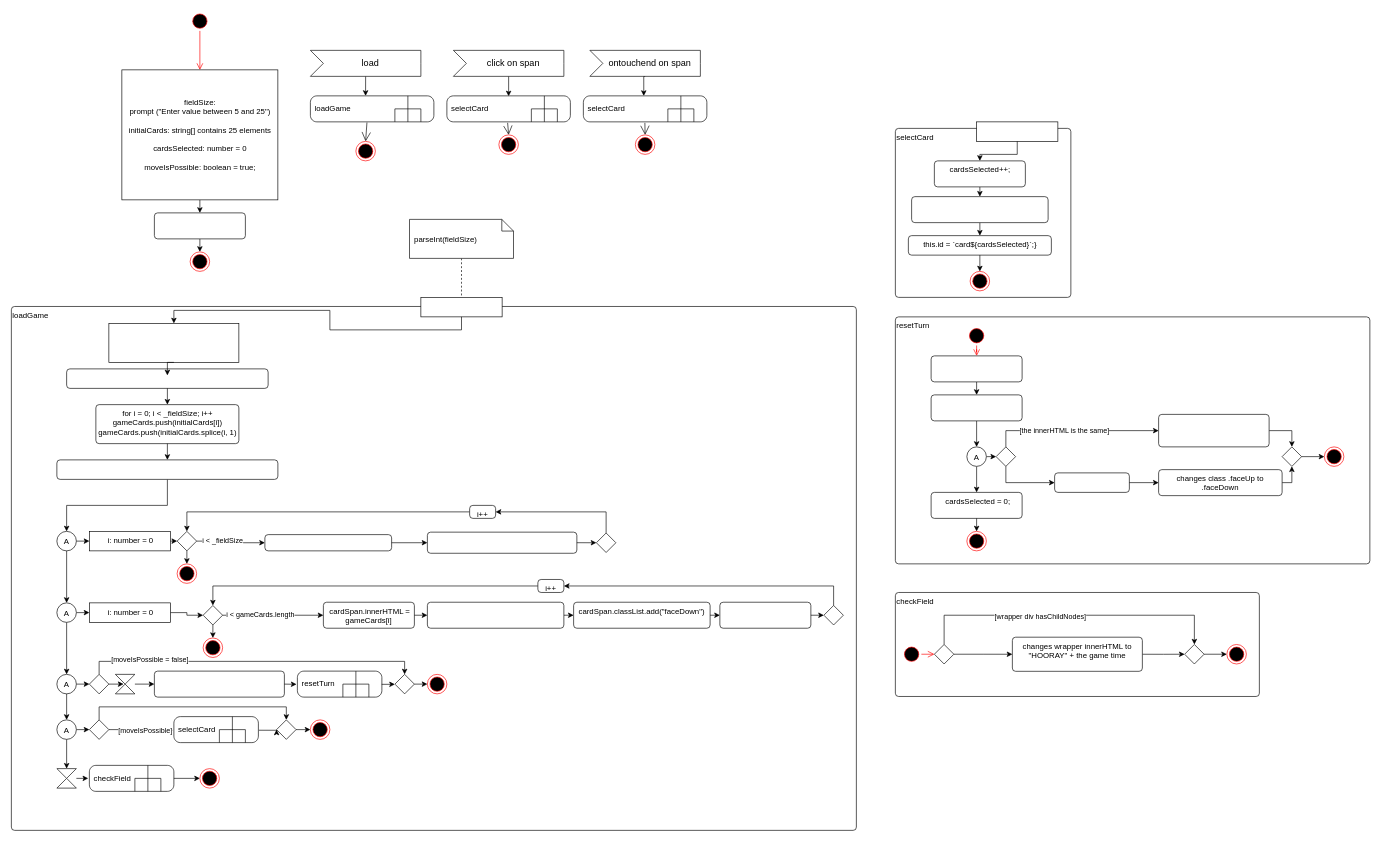
The diagram is 1381 pixels wide and 842 high, and some of its shapes have lost their labels. Here are the shapes that lost their labels. From the top down, the centre of each, then its label:
(x=1017, y=131): _event: HTMLEvent
(x=199, y=225): install load-listener
(x=979, y=209): change this.className = "faceDown" class to .faceUp
(x=461, y=307): _fieldSize: number
(x=173, y=342): gameCards = string[]; cardSpan = HTMLSpanElement;
(x=167, y=378): initialCards = initialCards.sort(() => Math.random() - 0.5);
(x=976, y=368): moveIsPossible = true
(x=976, y=407): compares the innerHTML of the two cards with ids
(x=1213, y=430): wrapper div removes these childNodes
(x=167, y=469): gameCards = gameCards.sort(() => Math.random() - 0.5);
(x=1091, y=482): removes ids
(x=328, y=542): GameCards.push(initialCards[i])
(x=502, y=542): GameCards.push(initialCards.splice(i, 1));
(x=495, y=615): cardSpan.classList.add("class")
(x=765, y=615): Append wrapper by cardSpan
(x=219, y=683): moveIsPossible = false
